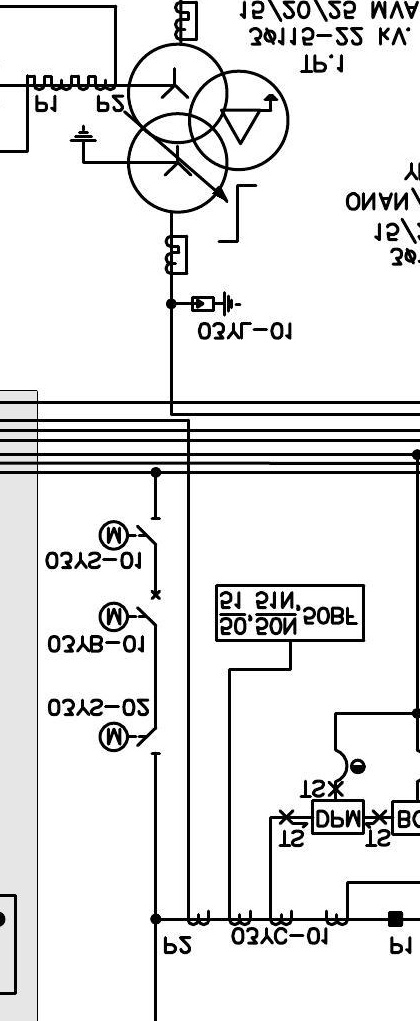11522_tx_ynyn0d1: (126, 41, 291, 215)
115_1way_ds_w_motor: (98, 721, 162, 756), (98, 517, 161, 552)
115_breaker: (136, 589, 162, 626)
115_la: (190, 291, 242, 317)
DPM: (311, 799, 365, 835)
